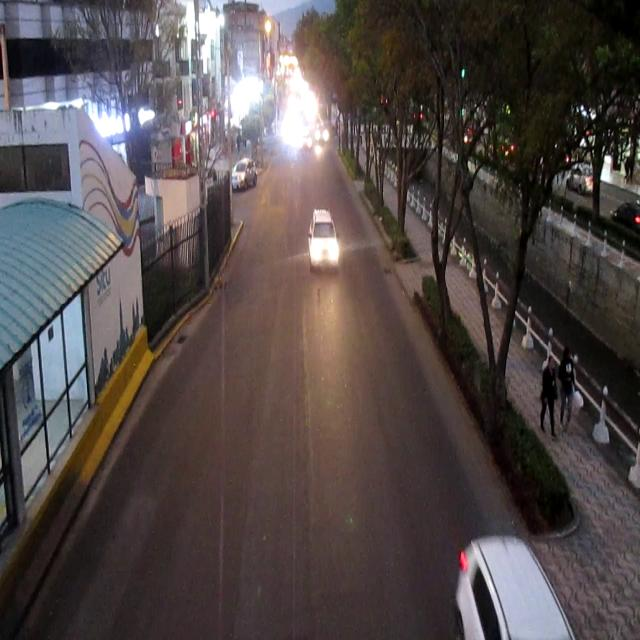SUV: (312, 206, 341, 271), (234, 160, 257, 190)
